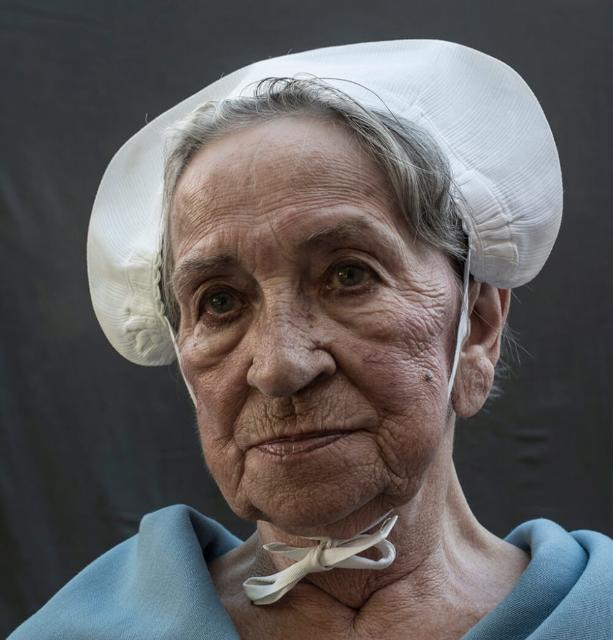bunny_line: (269, 300, 309, 334)
crows_feet: (396, 277, 440, 317)
forehead: (310, 160, 370, 212), (229, 190, 303, 213), (186, 199, 222, 239)
frown_line: (263, 215, 289, 252), (256, 264, 296, 284)
masseter: (394, 332, 442, 370)
sad_smile: (228, 442, 254, 500), (366, 424, 396, 466)
smoker_lines: (258, 402, 346, 432)
